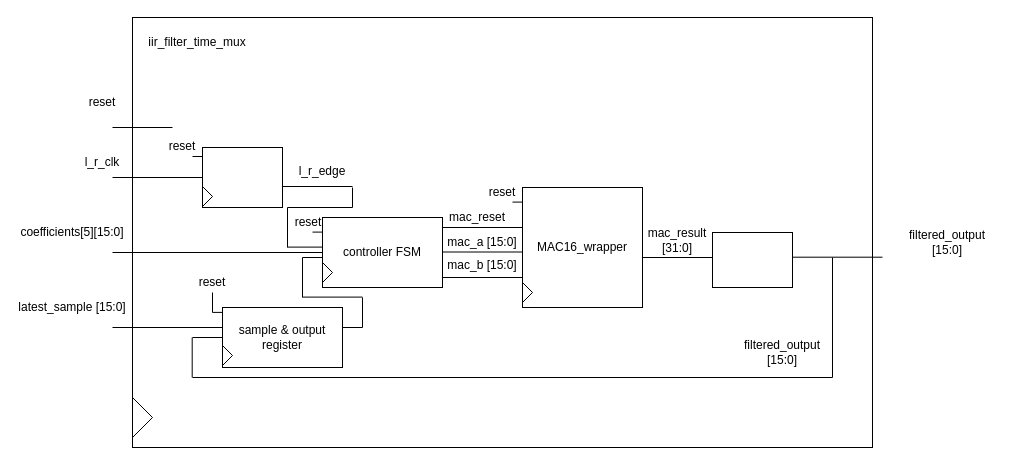
Image size: 1024x465. Some labels were removed from this diagram. The shapes that lost their labels are listed below. From the top down, each one's centre as x and y in pixels, then its label:
the point at 242,177: edge detector
the point at 752,260: bit extraction
